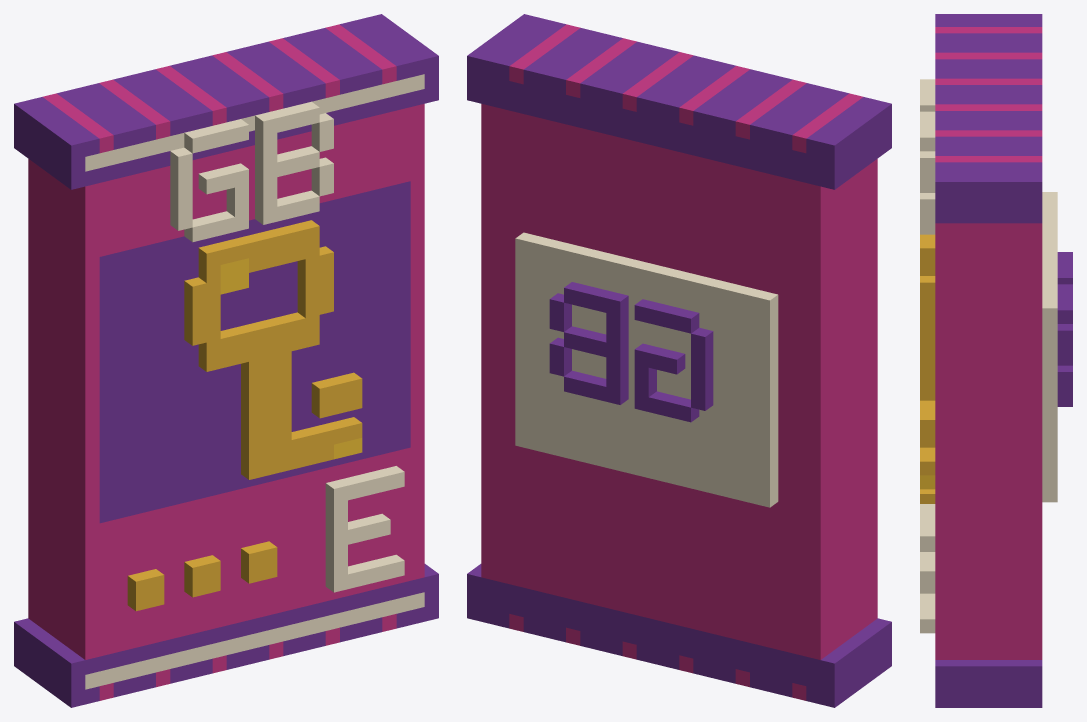
Rendered from booster_epic.glb.
The picture shows the model from 3 angles, left to right: view 1: azimuth 30°, elevation 25°; view 2: azimuth 150°, elevation 25°; view 3: azimuth 270°, elevation 25°; orthographic projection. The views are drawn at different scales.
Visible parts, largest first — view 1: booster_epic; view 2: booster_epic; view 3: booster_epic.
Boxes of the visible parts, x1,y1,x2,y2 form: booster_epic: [14, 14, 438, 707]; booster_epic: [467, 14, 891, 707]; booster_epic: [920, 14, 1072, 707].
Size of the model in its own units: 1.3 by 1.9 by 0.5.
Materials: 1 (1 with a texture image).
